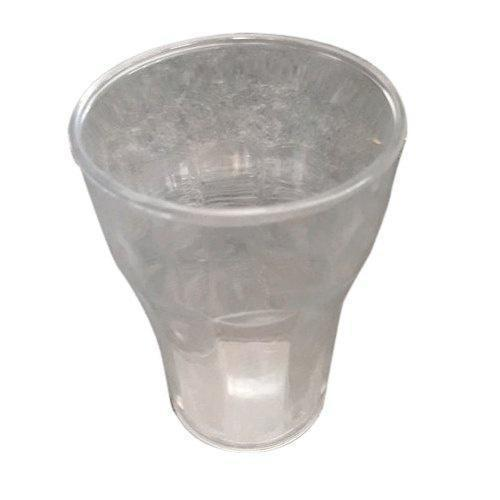glass-normal: (68, 29, 406, 455)
